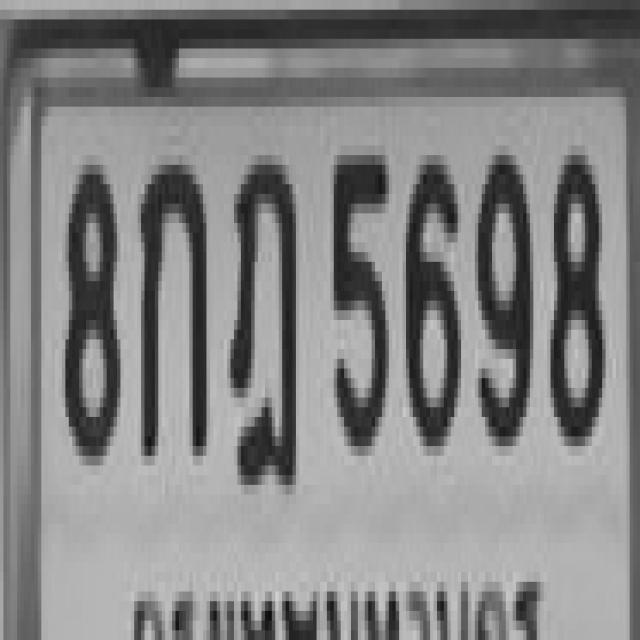10GorGai: (138, 155, 206, 446)
23DorChaDa: (227, 145, 296, 485)
5: (330, 146, 386, 446)
6: (402, 146, 458, 437)
8: (62, 155, 117, 456), (547, 146, 602, 437)
9: (475, 146, 530, 437)
